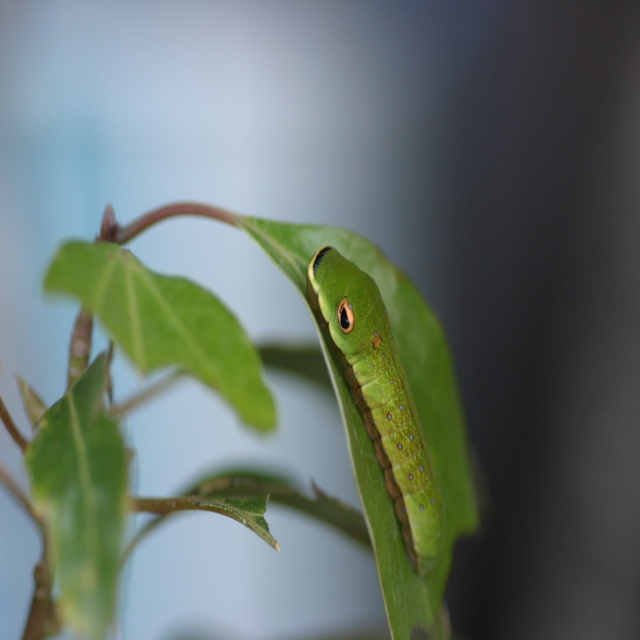Caterpillar: (306, 244, 446, 578)
